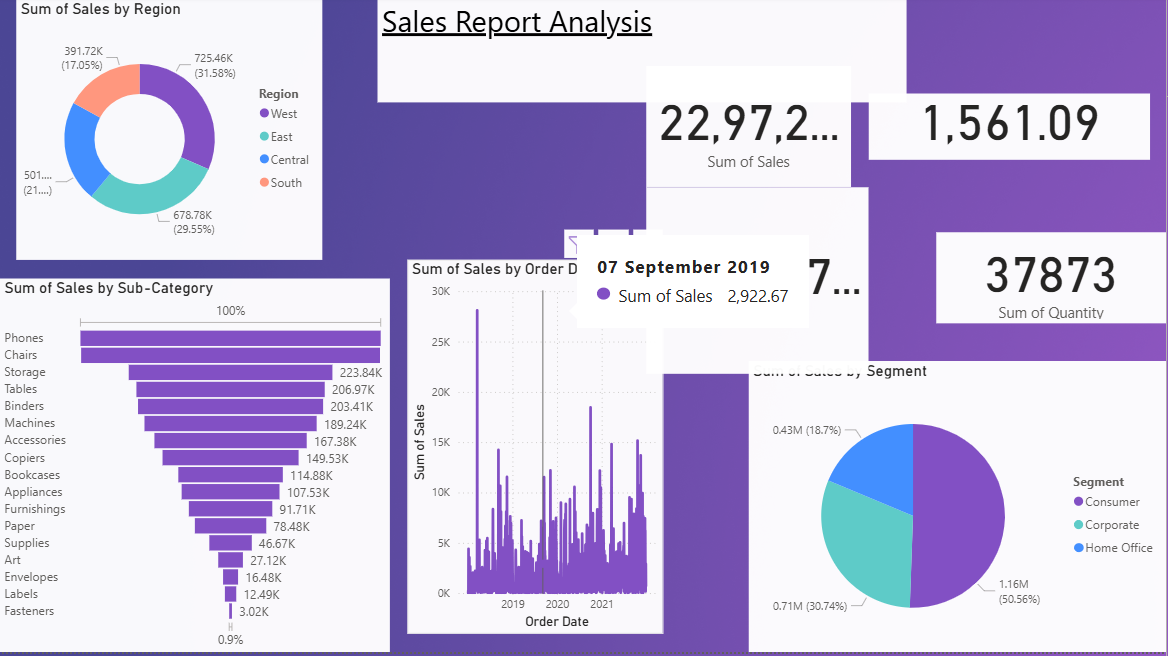

The dashboard page shown, as its layout file describes it:
{"tool":"powerbi","page":{"name":"Page 1","canvas":[1280,720],"ordinal":0},"visuals":[{"type":"donutChart","fields":{"Category":["Orders.Region"],"Y":["Sum(Orders.Sales)"]},"box":[17.8,4.1,336.2,285.4],"z":0},{"type":"funnel","fields":{"Category":["Orders.Sub-Category"],"Y":["Sum(Orders.Sales)"]},"box":[0,310.1,428.1,410.3],"z":1000},{"type":"pieChart","fields":{"Category":["Orders.Segment"],"Y":["Sum(Orders.Sales)"]},"box":[822,400.7,458.3,319.7],"z":2000},{"type":"lineChart","fields":{"Category":["Orders.Order Date"],"Y":["Sum(Orders.Sales)"]},"box":[448,290,280,410],"z":3000},{"type":"card","fields":{"Values":["Sum(Orders.Sales)"]},"box":[709.4,76.8,225,133.1],"z":4000},{"type":"card","fields":{"Values":["Sum(Orders.Profit)"]},"box":[709.4,209.9,244.3,204.5],"z":5000},{"type":"card","fields":{"Values":["Sum(Orders.Discount)"]},"box":[953.7,107,308.7,72.7],"z":6000},{"type":"card","fields":{"Values":["Sum(Orders.Quantity)"]},"box":[1027.8,259.3,252.5,100.2],"z":7000},{"type":"textbox","box":[414.4,0,580.4,116.6],"z":8000}]}

Visuals, with their boxes in screenshot pixels (x1, y1, x2, y2), scaled from the page's 1280x720 canvas onto the 1168x656 screenshot:
donutChart - Orders.Region x Sum(Orders.Sales): <bbox>16, 4, 323, 264</bbox>
funnel - Orders.Sub-Category x Sum(Orders.Sales): <bbox>0, 283, 391, 655</bbox>
pieChart - Orders.Segment x Sum(Orders.Sales): <bbox>750, 365, 1167, 655</bbox>
lineChart - Orders.Order Date x Sum(Orders.Sales): <bbox>409, 264, 664, 638</bbox>
card - Sum(Orders.Sales): <bbox>647, 70, 853, 191</bbox>
card - Sum(Orders.Profit): <bbox>647, 191, 870, 378</bbox>
card - Sum(Orders.Discount): <bbox>870, 97, 1152, 164</bbox>
card - Sum(Orders.Quantity): <bbox>938, 236, 1167, 328</bbox>
textbox: <bbox>378, 0, 908, 106</bbox>
